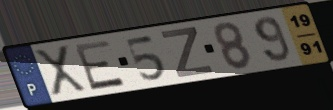5: (123, 33, 168, 83)
8: (211, 20, 255, 70)
9: (252, 15, 293, 64)
E: (72, 38, 129, 93)
X: (31, 43, 90, 99)
Z: (158, 25, 217, 80)
